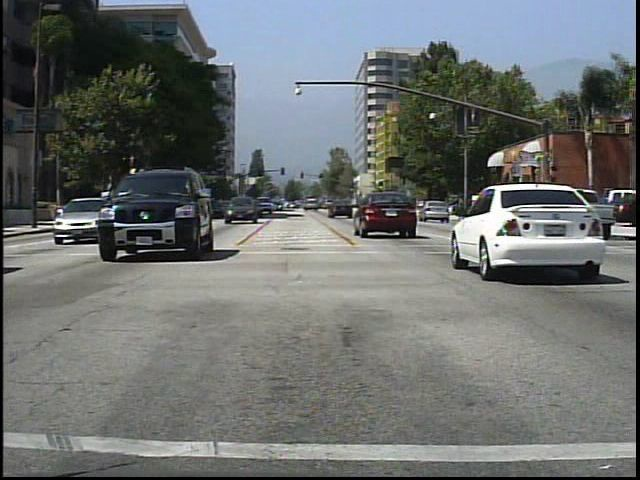person: (548, 190, 567, 228), (501, 188, 519, 224)
